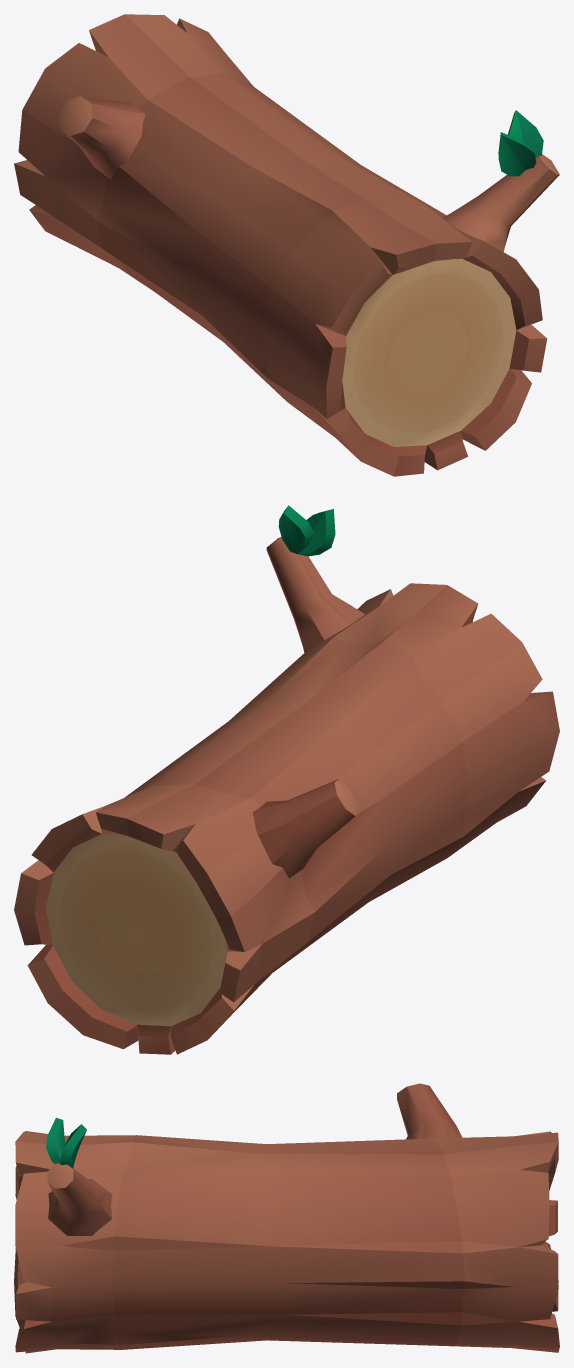
The model's file is buche.glb.
3 views of the same model, one above another, from view 1: azimuth 30°, elevation 25°; view 2: azimuth 150°, elevation 25°; view 3: azimuth 270°, elevation 25° (orthographic). The views are drawn at different scales.
Visible parts, largest first — view 1: Wood_Log_A; view 2: Wood_Log_A; view 3: Wood_Log_A.
Boxes of the visible parts, x1=… form: Wood_Log_A: x1=14, y1=14, x2=559, y2=476; Wood_Log_A: x1=14, y1=505, x2=559, y2=1054; Wood_Log_A: x1=14, y1=1083, x2=559, y2=1353.
Size of the model in its own units: 0.7214 by 0.7334 by 1.35.
1 material, 1 textured.
